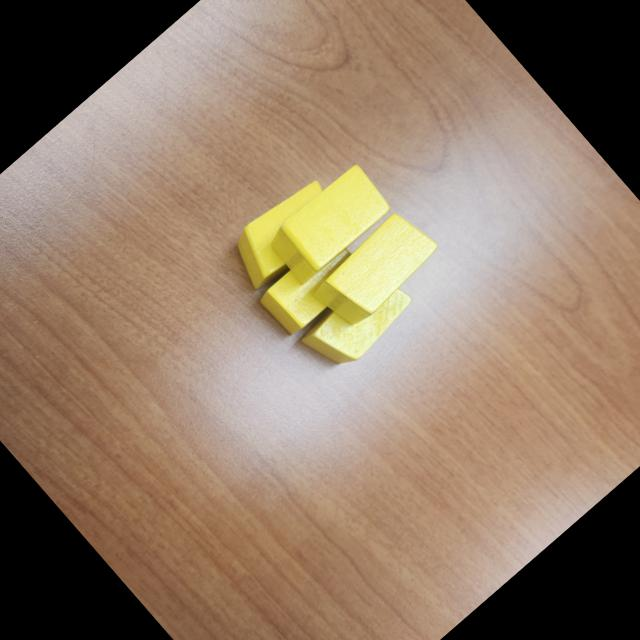yellow: (306, 203, 446, 336), (263, 159, 397, 286), (218, 170, 350, 297), (296, 264, 421, 384), (256, 230, 370, 339)
